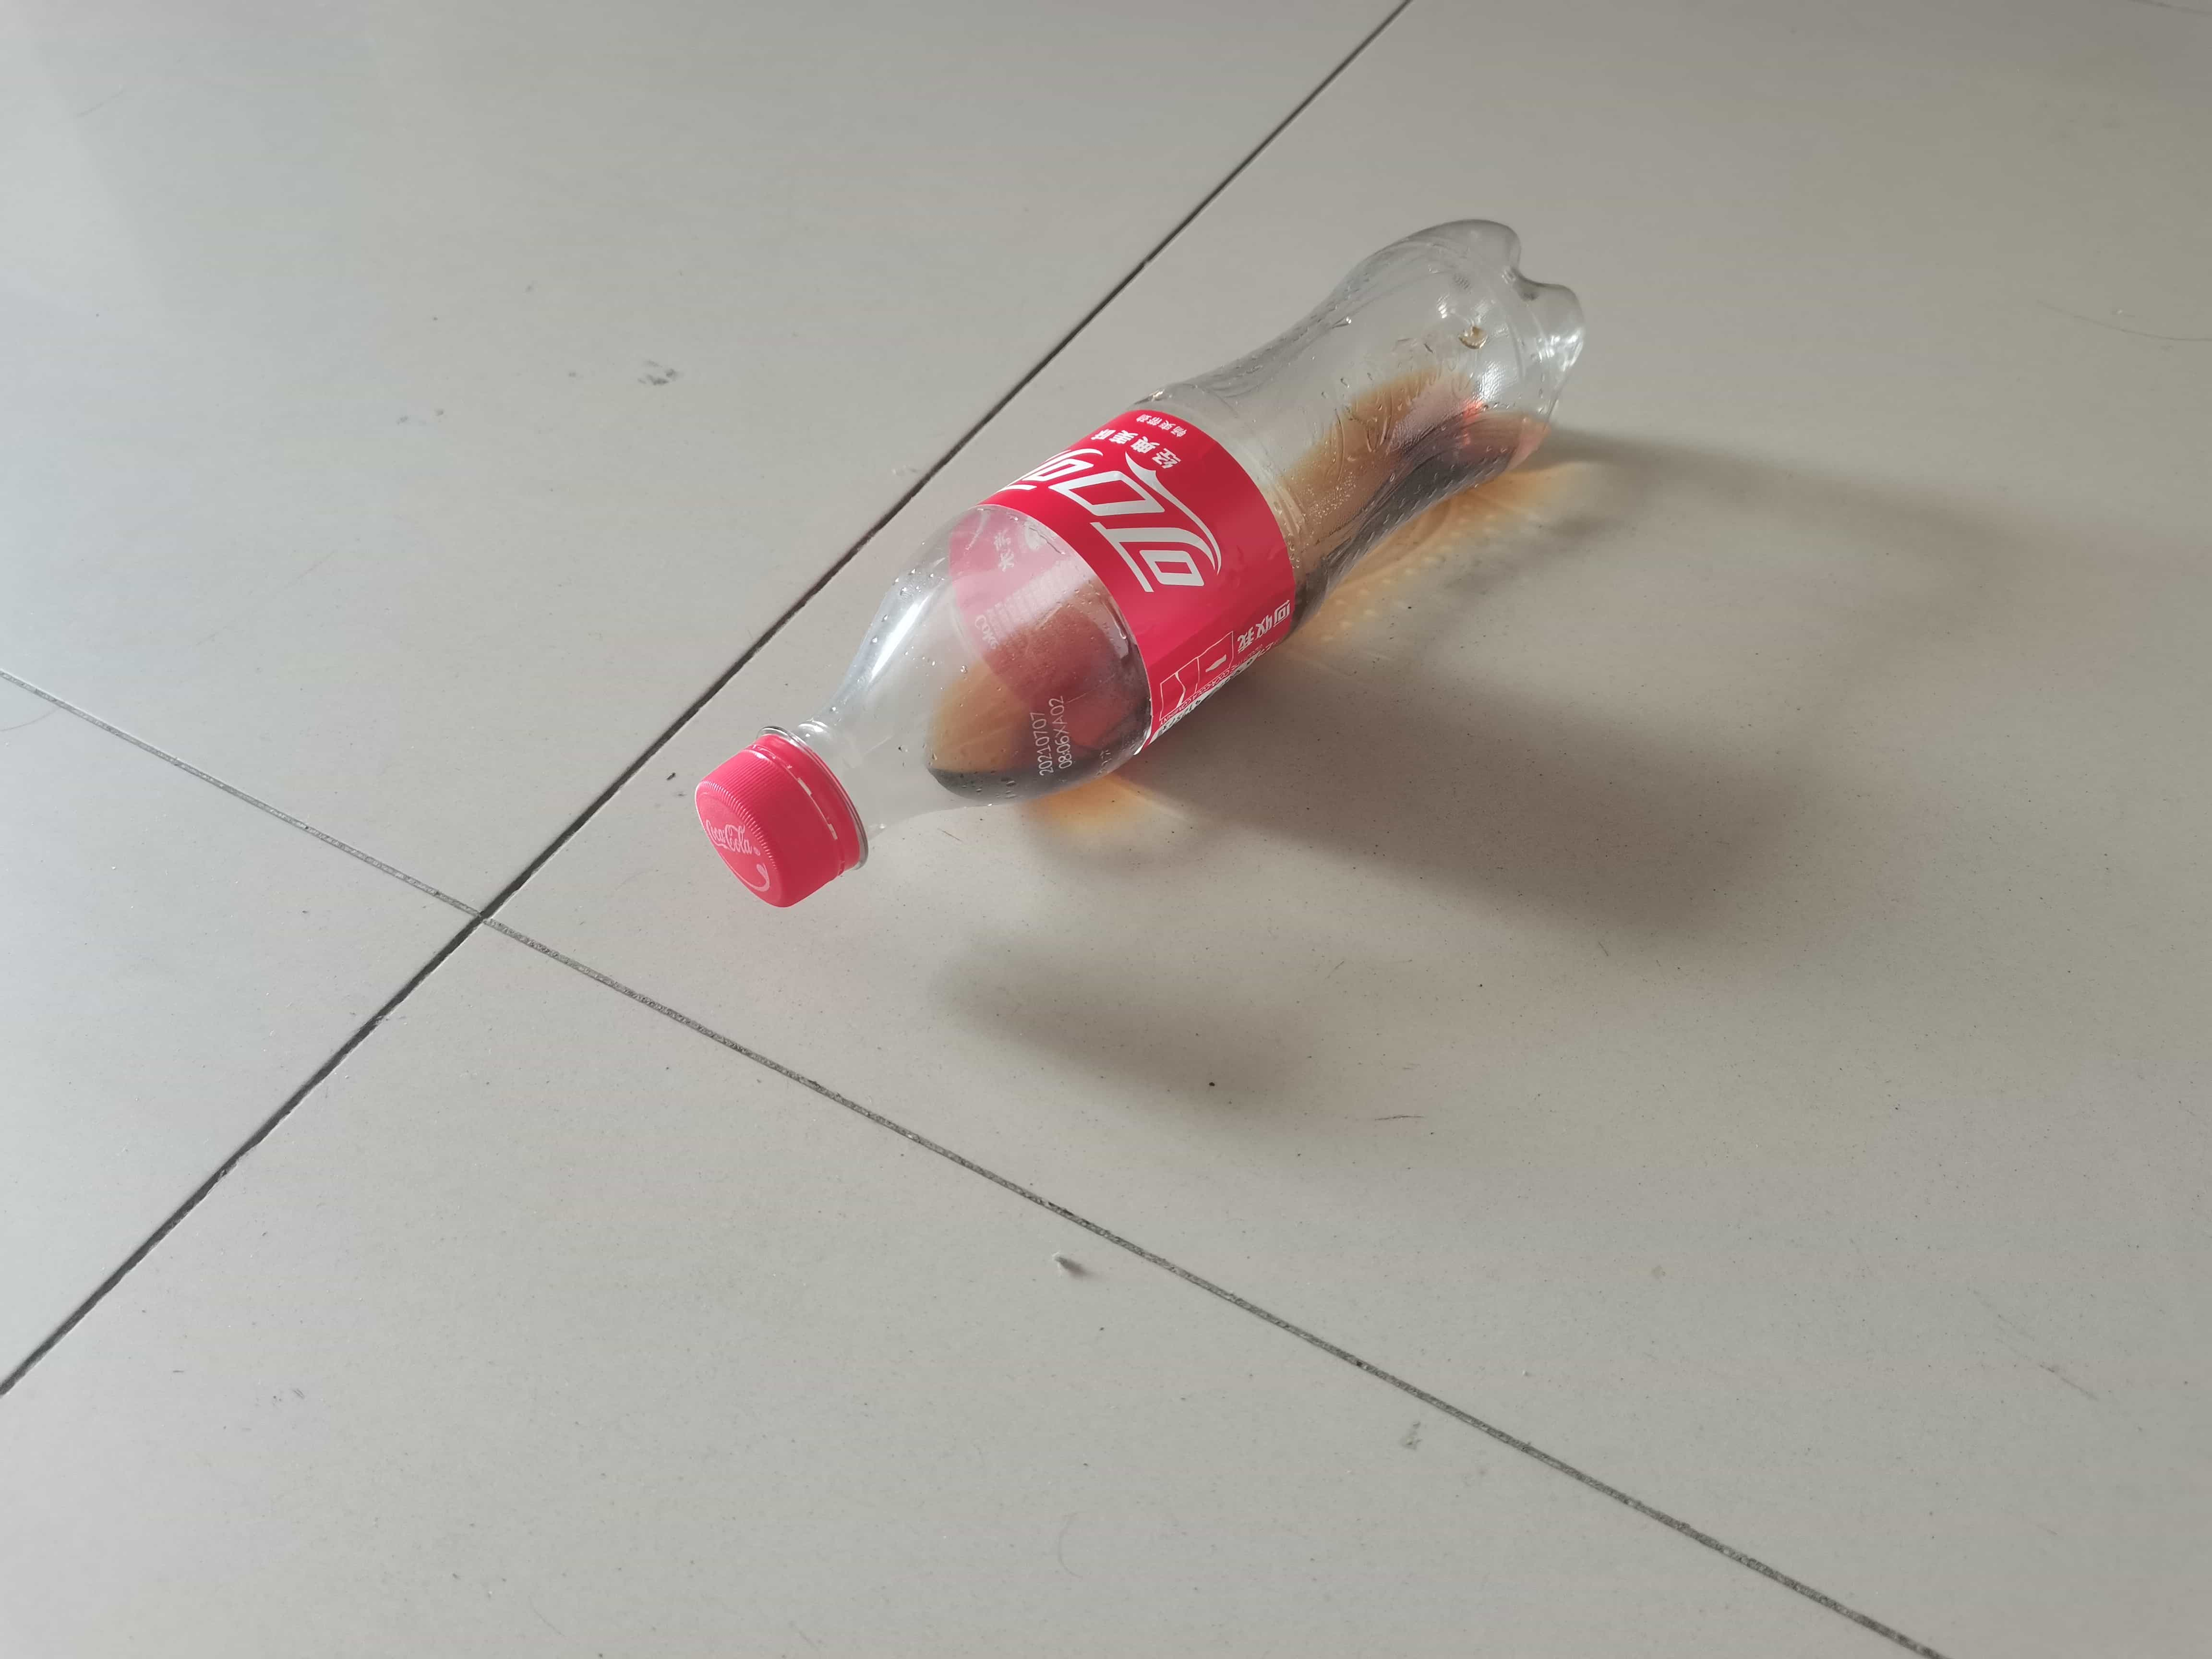plastic_bottle: (674, 199, 1611, 925)
